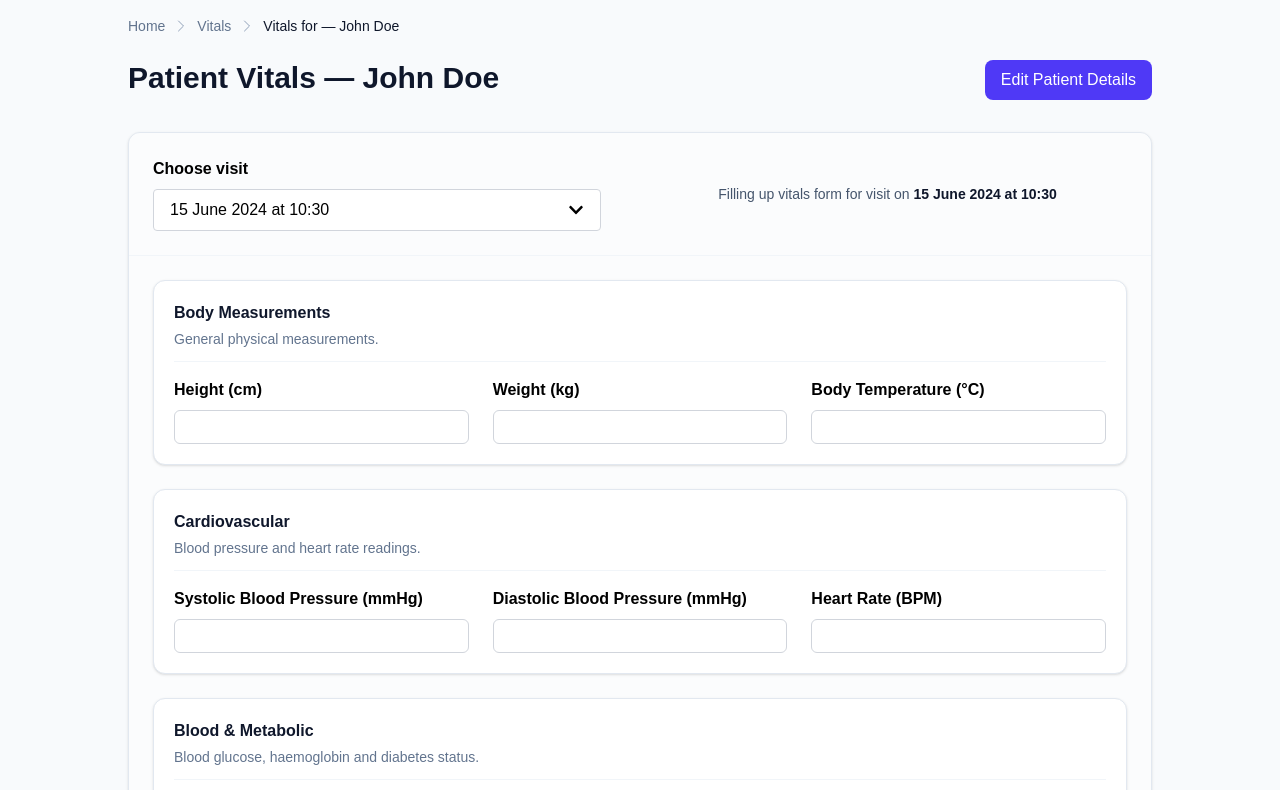
Test: VitalsForm › shows HTN warning symbol
Type "140" into the number field labelled "Systolic Blood Pressure (mmHg)".
click(321, 636); type("140")  # box [174, 619, 469, 653]
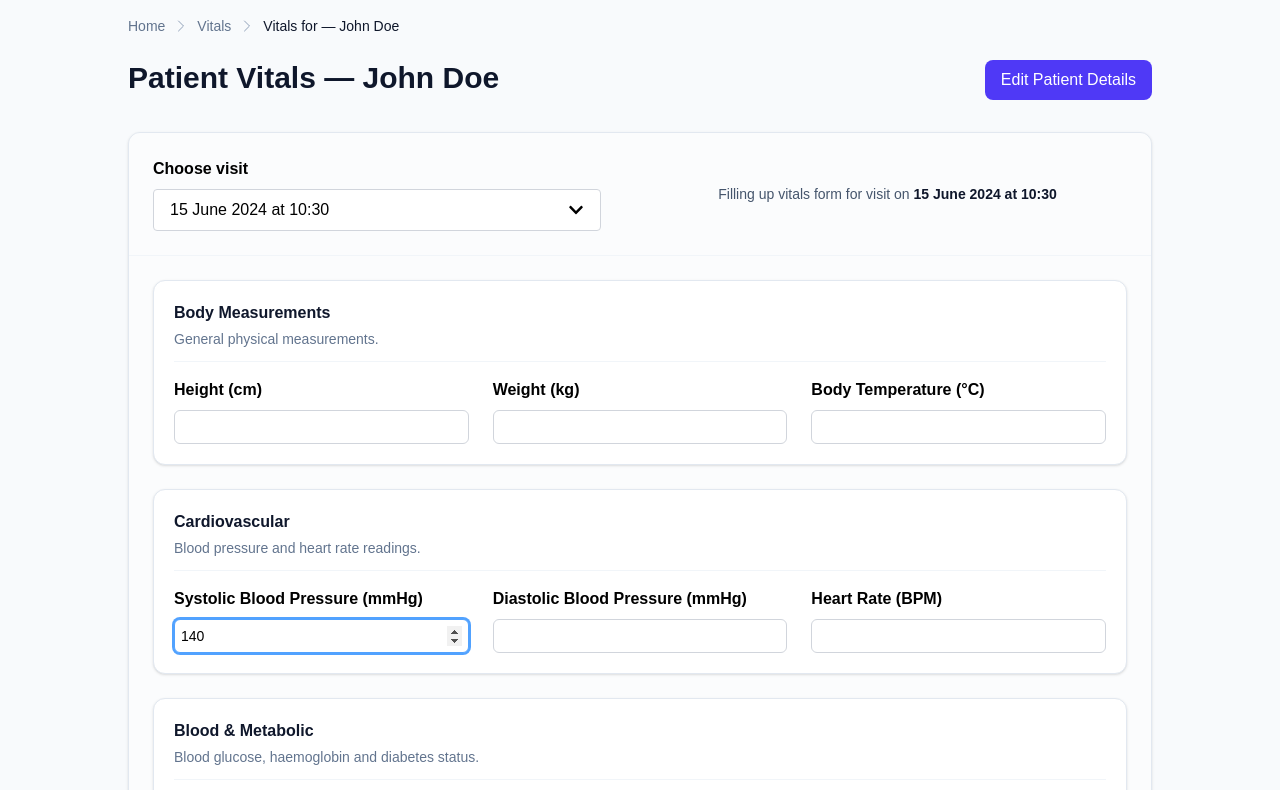
Type "90" into the number field labelled "Diastolic Blood Pressure (mmHg)".
click(640, 636); type("90")  # box [493, 619, 787, 653]
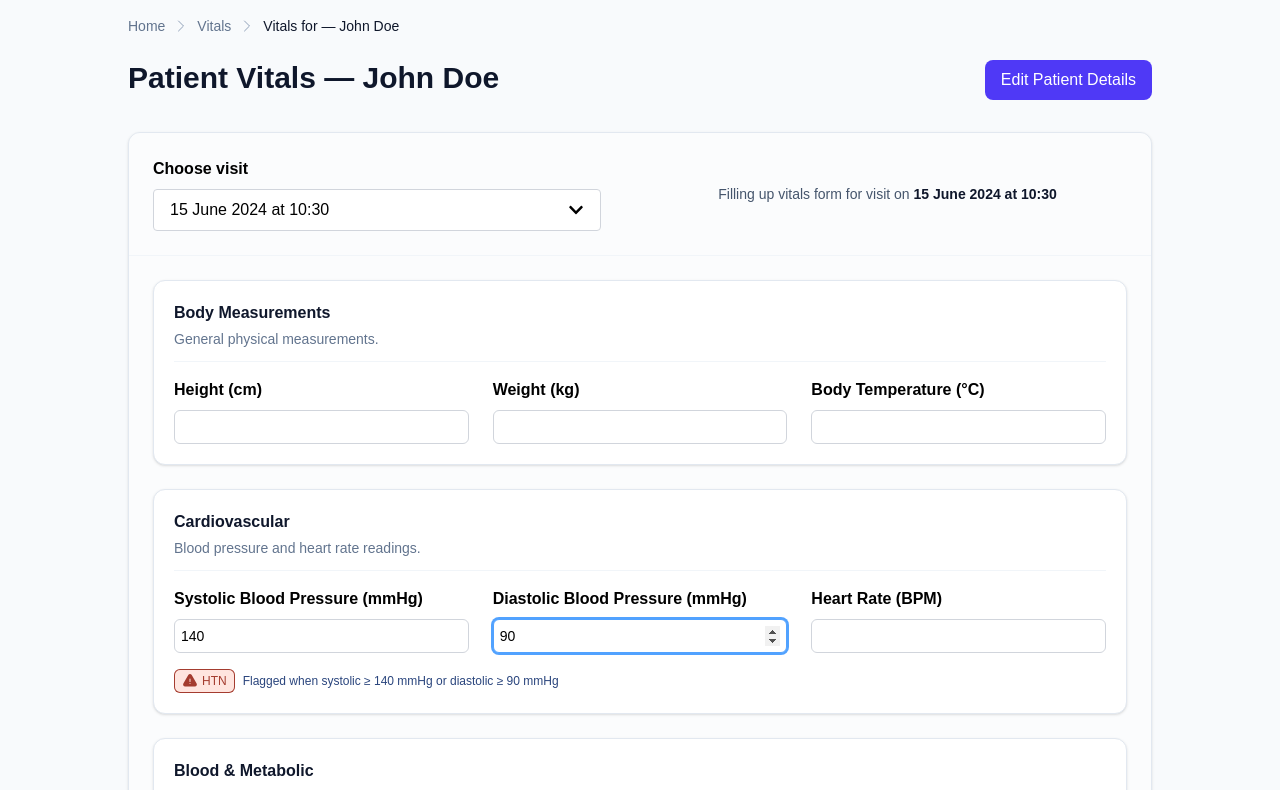
Check: the text "HTN" is shown, box [174, 669, 235, 693]
